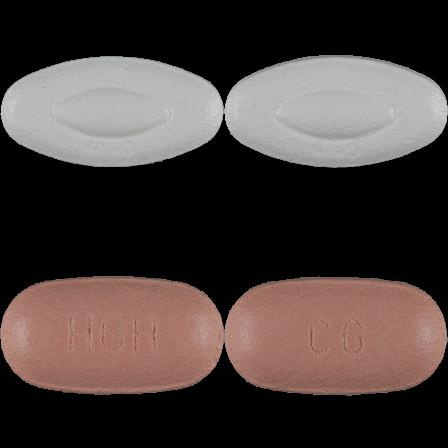54868-4424: (0, 0, 224, 224)
